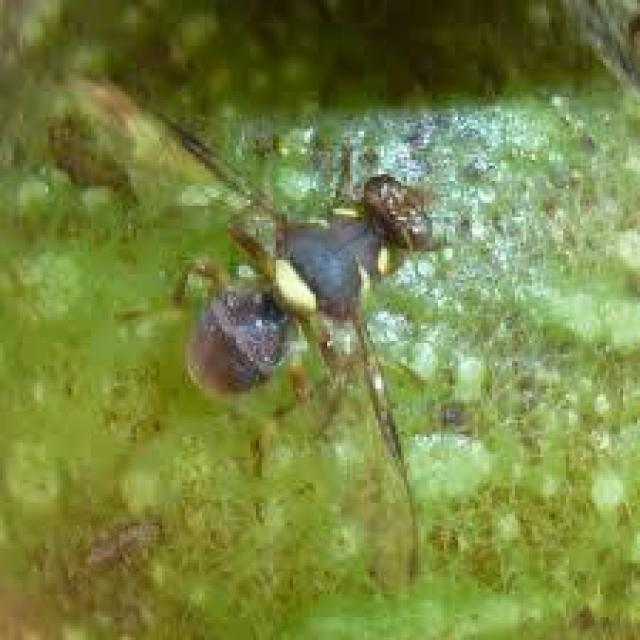Olive Fruit Fly: (77, 80, 427, 583)
